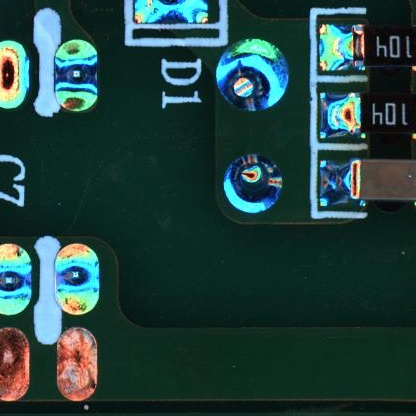spot: (213, 38, 291, 115), (222, 152, 284, 214), (54, 39, 100, 114), (54, 243, 101, 316), (55, 325, 99, 402), (1, 241, 33, 318), (1, 327, 31, 404), (1, 40, 29, 113)
